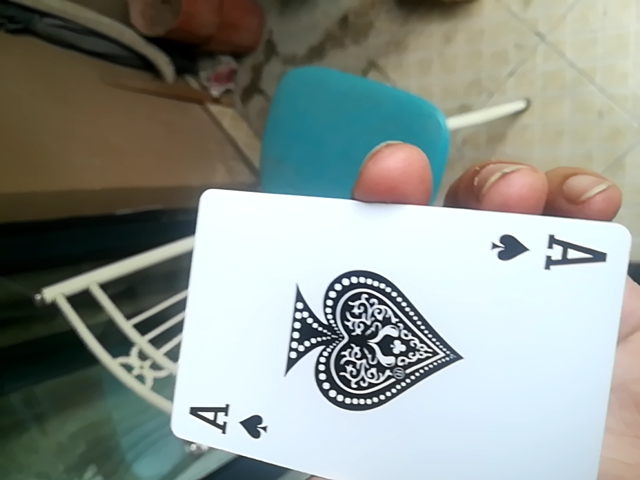ht a: (159, 186, 637, 479)
